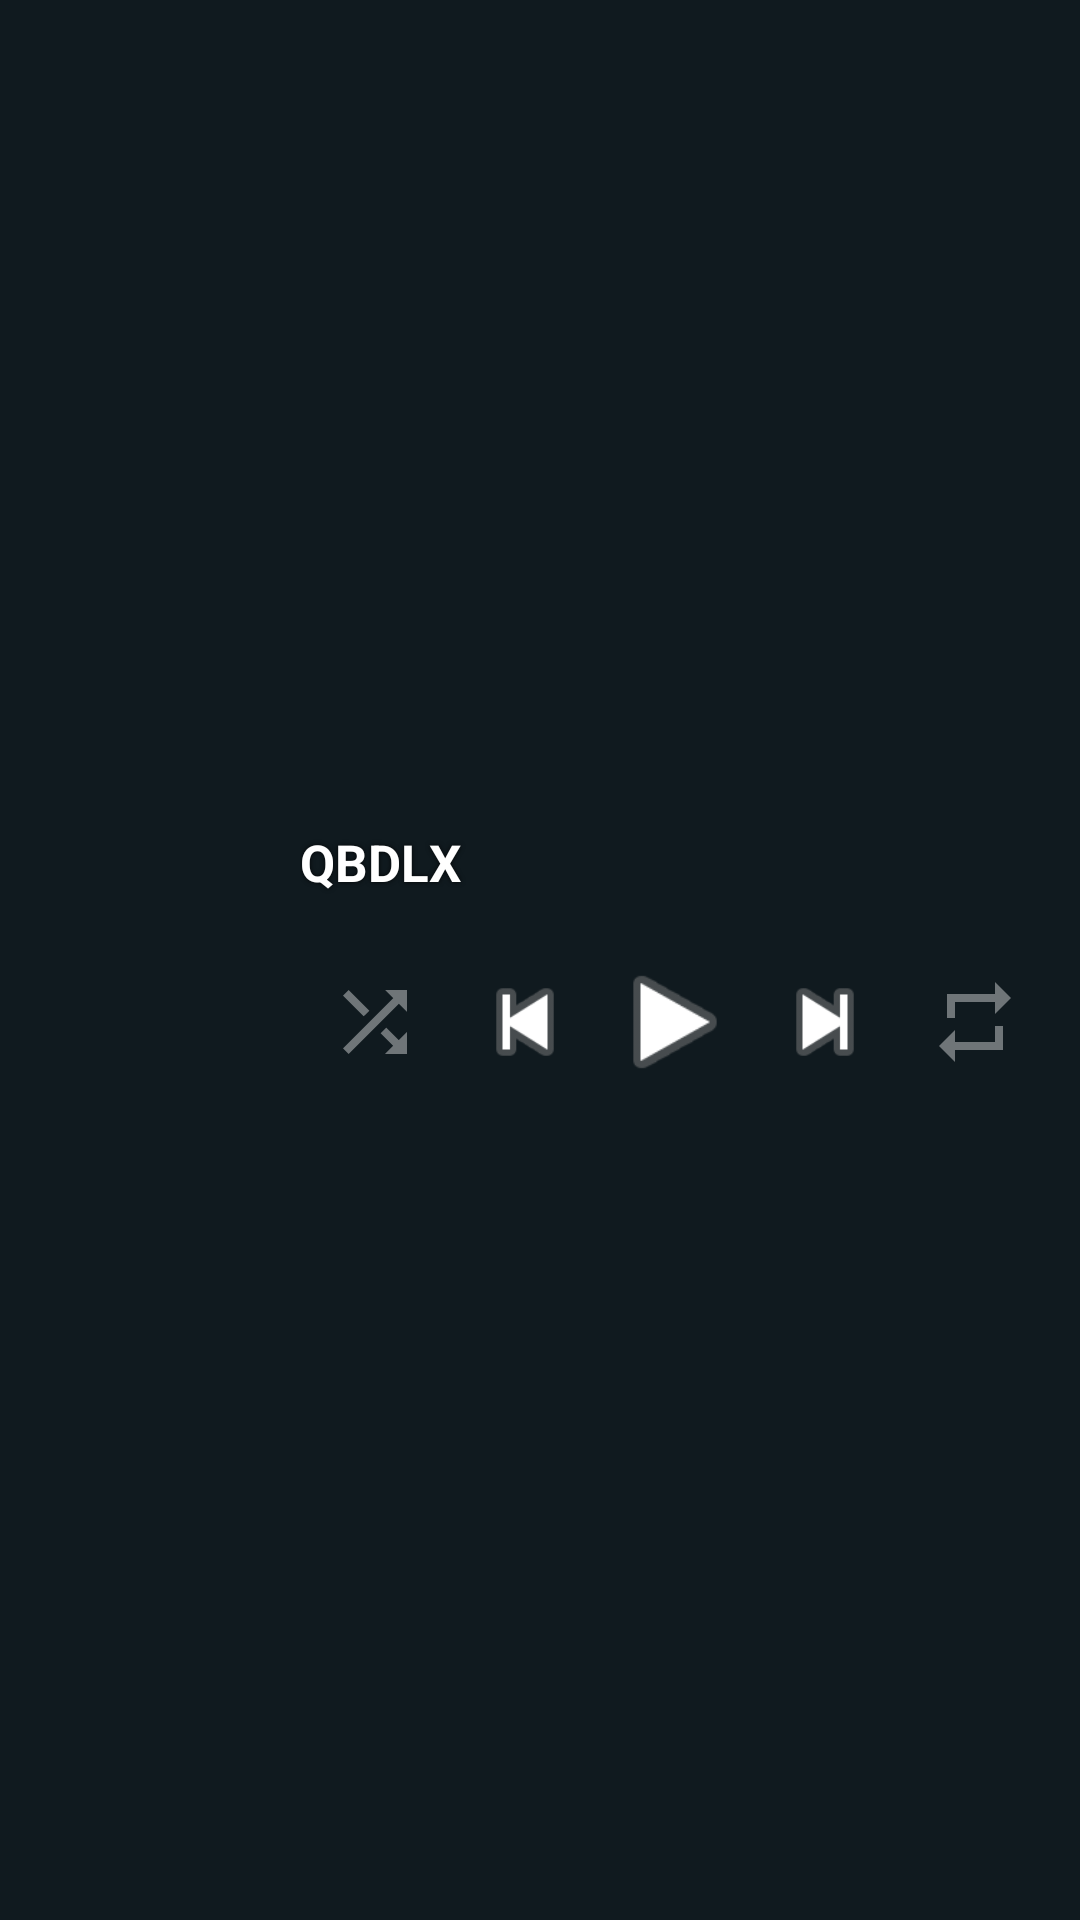

Icon bounding boxes for this 1080x1920 phone screenshot, format (x1, y1, x2, y2):
Next: (796, 988, 854, 1056)
Play / pause: (633, 976, 717, 1068)
Previous: (496, 988, 554, 1056)
Repeat: (939, 982, 1011, 1062)
Shuffle: (343, 990, 407, 1054)
